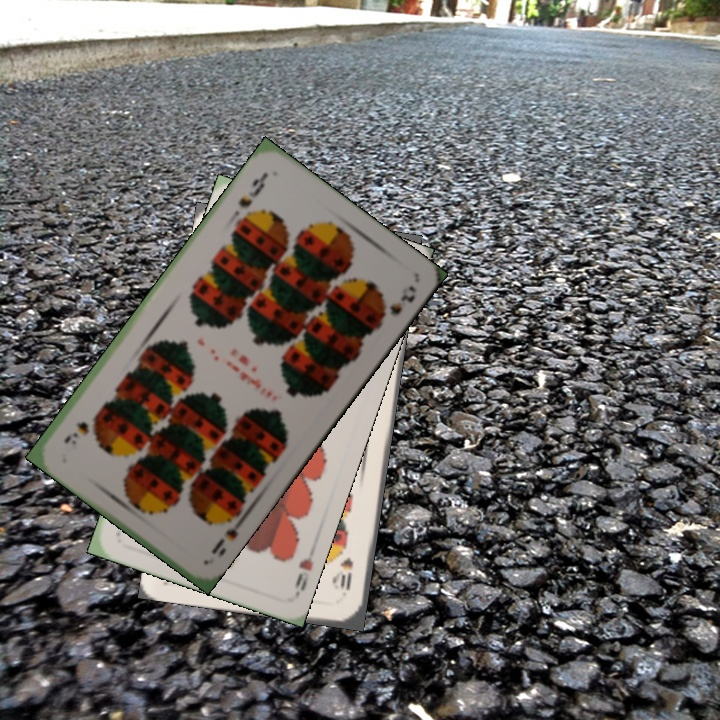H9: (290, 541, 319, 598)
S10: (336, 554, 356, 594)
S9: (207, 509, 247, 559), (234, 168, 271, 211)
